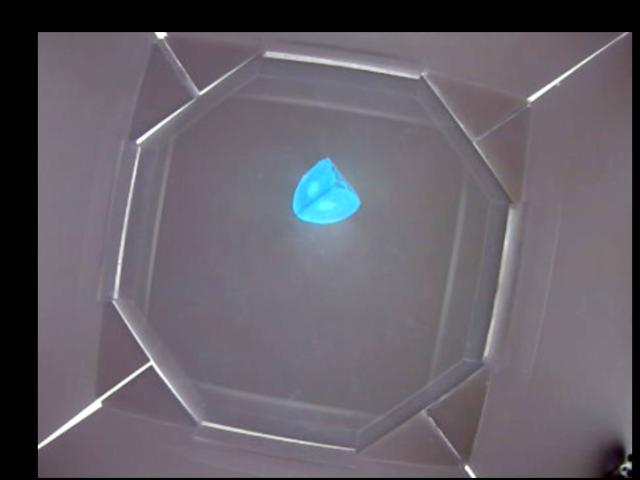Carrot: (291, 158, 359, 221)
